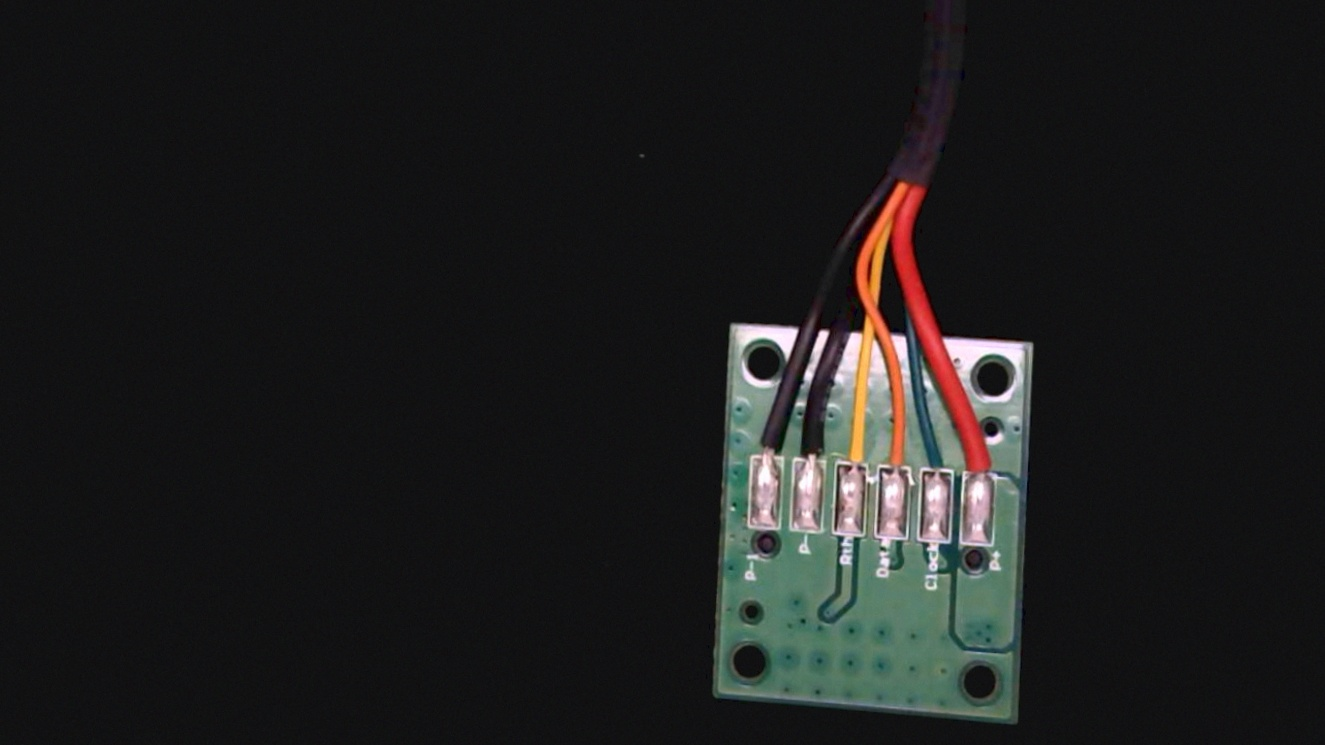Black: (789, 394, 836, 483)
Black1: (749, 408, 789, 480)
Green: (913, 418, 959, 491)
Orange: (877, 416, 917, 487)
Red: (958, 421, 1000, 494)
Yellow: (833, 413, 875, 484)
